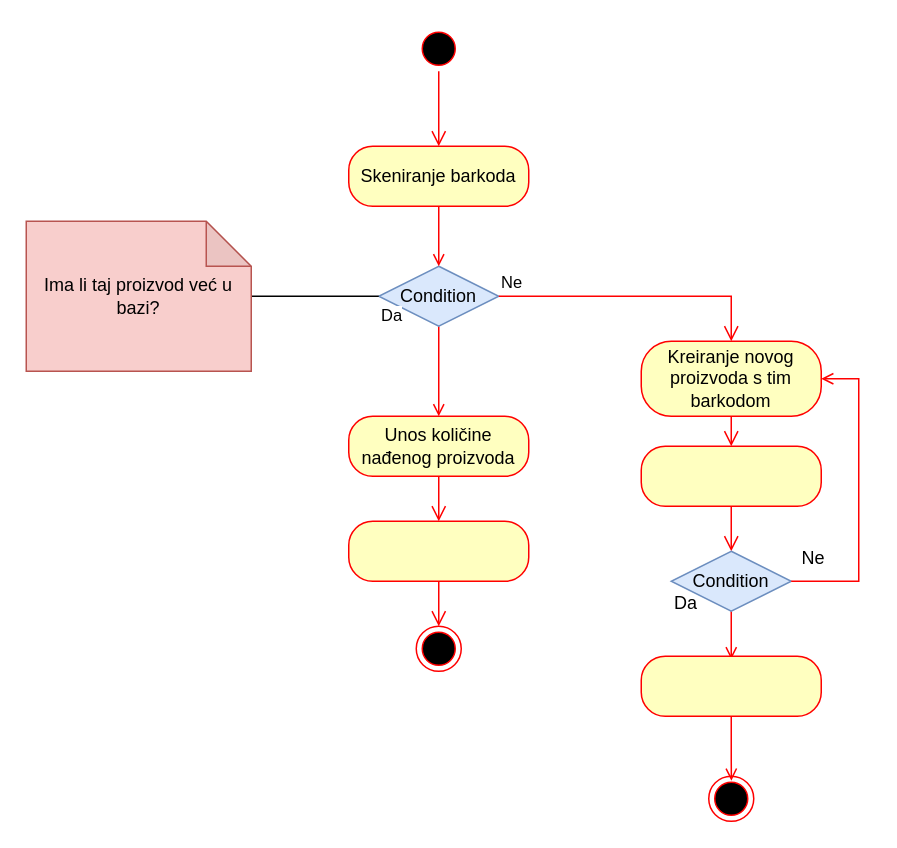
Image size: 897x848. Some labels were removed from this diagram. Here are the shapes that lost their labels. From the top down, the centre of each, then its label:
(730,475): Provjera podataka
(438,550): Dodavanje u dnevnik ishrane
(730,685): Kreiranje novog proizvoda u bazi
